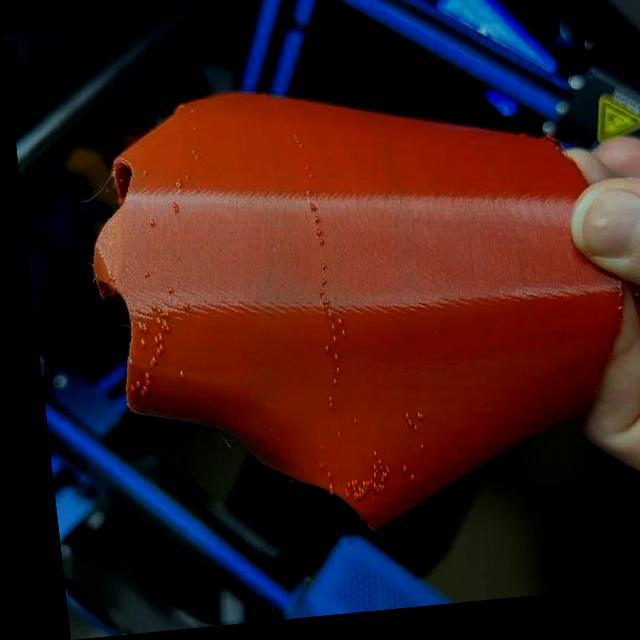zits: (128, 319, 142, 337), (314, 398, 326, 417), (150, 324, 166, 338), (348, 482, 362, 496), (165, 369, 178, 384), (128, 334, 141, 349), (156, 283, 168, 298), (143, 335, 158, 347), (139, 356, 150, 372), (127, 388, 144, 398), (167, 180, 179, 194), (165, 202, 176, 217), (322, 353, 334, 366), (141, 218, 152, 232), (144, 317, 156, 329), (329, 331, 340, 344), (303, 207, 314, 220), (147, 346, 158, 358), (404, 416, 415, 428), (334, 482, 345, 494), (324, 367, 334, 380), (312, 486, 322, 499), (406, 448, 416, 461), (140, 304, 151, 315), (322, 324, 331, 337), (314, 348, 324, 359), (306, 466, 316, 477), (396, 479, 406, 490), (322, 432, 331, 444), (326, 320, 336, 330), (394, 426, 404, 436), (390, 417, 401, 426), (389, 468, 398, 479), (331, 493, 340, 504), (314, 267, 322, 279), (136, 378, 145, 388), (125, 380, 134, 390), (312, 282, 321, 292), (306, 220, 315, 230), (340, 422, 349, 432), (136, 272, 144, 283), (322, 338, 330, 349), (310, 233, 318, 244), (361, 488, 370, 497), (358, 455, 368, 463), (310, 294, 317, 304), (312, 244, 320, 252), (372, 472, 380, 480), (304, 449, 313, 456), (322, 382, 328, 392), (359, 477, 366, 485), (134, 372, 143, 378), (315, 477, 322, 483), (360, 470, 366, 474)
